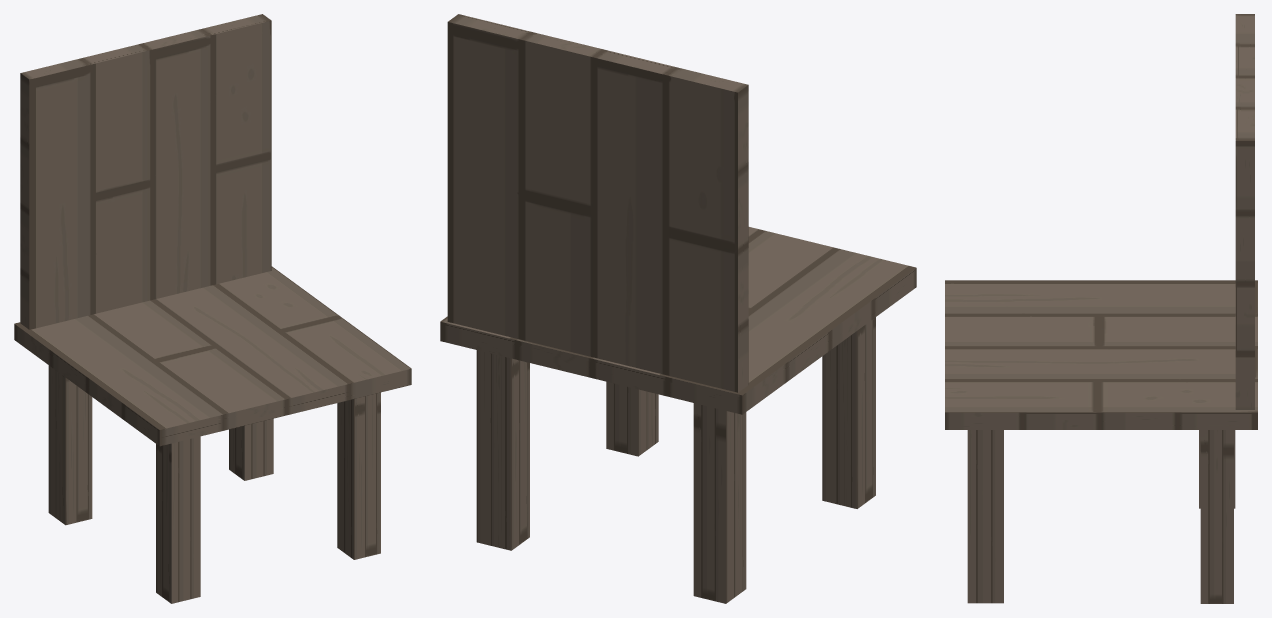
File: CHAISE.fbx
The picture shows the model from 3 angles, left to right: view 1: azimuth 30°, elevation 25°; view 2: azimuth 150°, elevation 25°; view 3: azimuth 270°, elevation 25°; orthographic projection. The views are drawn at different scales.
Parts seen in each view (by area): view 1: Cube, Cube.005, Cube.002, Cube.003, Cube.004, Cube.001; view 2: Cube, Cube.005, Cube.004, Cube.001, Cube.002, Cube.003; view 3: Cube.005, Cube, Cube.003, Cube.001.
Boxes of the visible parts, left/top/right/bottom form: Cube: left=20, top=14, right=271, bottom=329; Cube.005: left=14, top=266, right=411, bottom=446; Cube.002: left=156, top=436, right=200, bottom=603; Cube.003: left=337, top=392, right=380, bottom=559; Cube.004: left=48, top=365, right=92, bottom=525; Cube.001: left=229, top=418, right=273, bottom=480; Cube: left=447, top=14, right=748, bottom=392; Cube.005: left=440, top=227, right=916, bottom=414; Cube.004: left=693, top=403, right=746, bottom=603; Cube.001: left=476, top=350, right=529, bottom=550; Cube.002: left=822, top=317, right=875, bottom=508; Cube.003: left=606, top=381, right=658, bottom=456; Cube.005: left=945, top=280, right=1257, bottom=429; Cube: left=1235, top=14, right=1254, bottom=409; Cube.003: left=967, top=430, right=1003, bottom=603; Cube.001: left=1200, top=430, right=1233, bottom=603.
Size of the model in its own units: 157 by 260 by 157.
